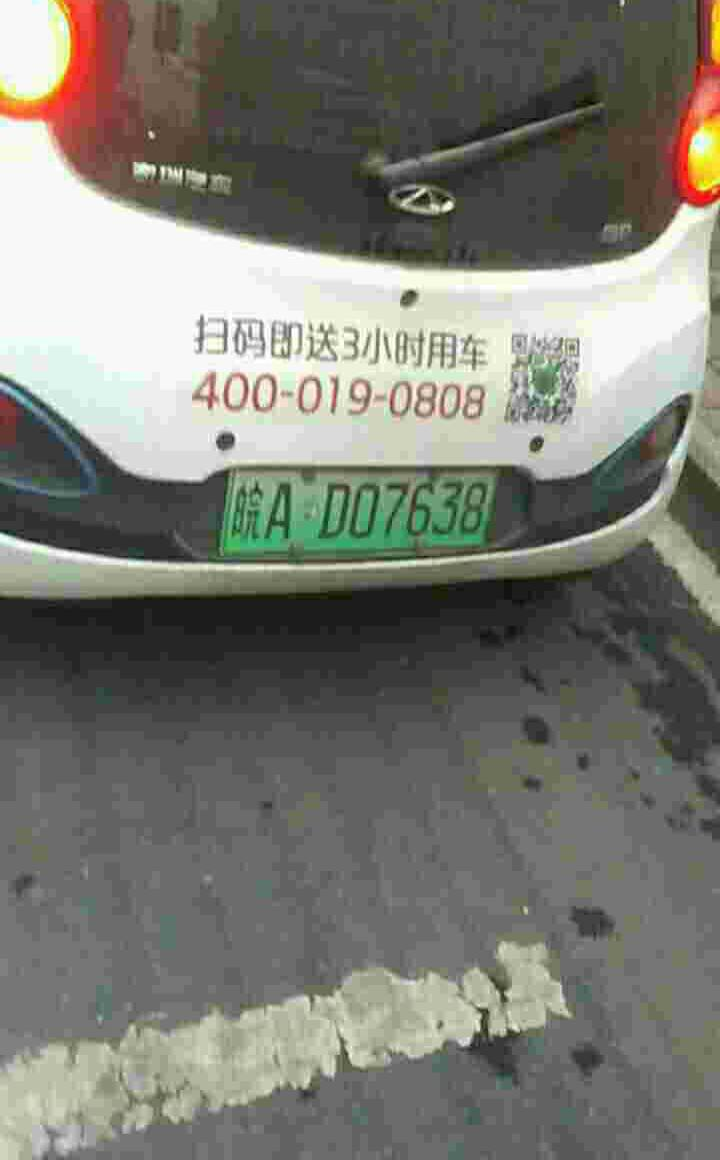car: (204, 475, 511, 550)
